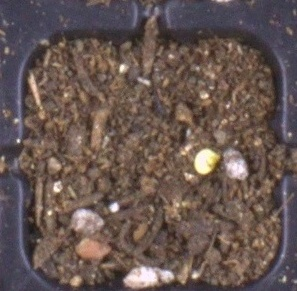chilli seed: (193, 148, 221, 176)
